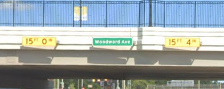0: (39, 36, 48, 46)
1: (24, 36, 29, 46), (167, 37, 172, 47)
4: (184, 37, 192, 47)
5: (170, 38, 177, 46), (28, 36, 33, 46)
overheadsign: (165, 37, 201, 48), (22, 36, 56, 47)
